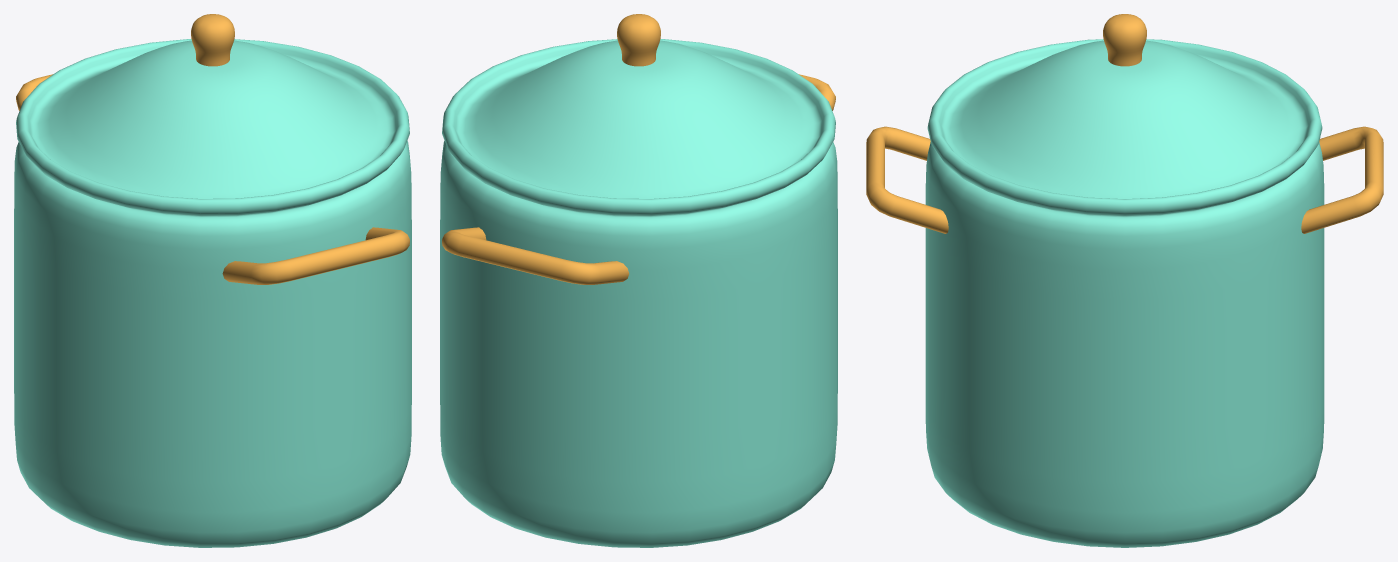
Rendered from bigger_pot.gltf.
3 renders of one model, left to right at view 1: azimuth 30°, elevation 25°; view 2: azimuth 150°, elevation 25°; view 3: azimuth 270°, elevation 25°, orthographic.
Visible parts, largest first — view 1: Circle, Circle.001, Plane, Circle.005; view 2: Circle, Circle.001, Plane, Circle.005; view 3: Circle, Circle.001, Plane, Circle.005.
Part boxes in pixels (x1=…): Circle: x1=14, y1=141, x2=411, y2=547; Circle.001: x1=16, y1=39, x2=409, y2=216; Plane: x1=16, y1=74, x2=409, y2=284; Circle.005: x1=191, y1=14, x2=234, y2=66; Circle: x1=440, y1=141, x2=837, y2=547; Circle.001: x1=442, y1=39, x2=835, y2=216; Plane: x1=442, y1=74, x2=835, y2=284; Circle.005: x1=617, y1=14, x2=660, y2=66; Circle: x1=925, y1=142, x2=1324, y2=547; Circle.001: x1=927, y1=39, x2=1322, y2=216; Plane: x1=866, y1=126, x2=1383, y2=233; Circle.005: x1=1103, y1=14, x2=1146, y2=66.
Bounding box in the file's own units: 1.8 × 2.29 × 2.34.
4 materials, 4 textured.
